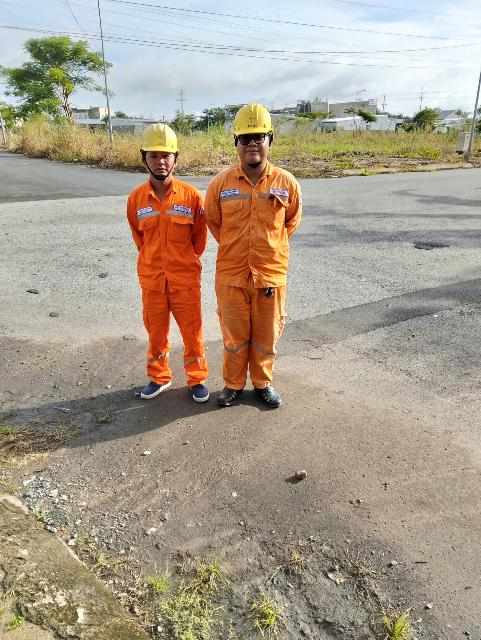helmet: (232, 99, 276, 142), (130, 122, 178, 154)
shoes: (133, 371, 175, 402), (209, 376, 247, 408), (178, 372, 211, 402), (251, 378, 286, 406)
